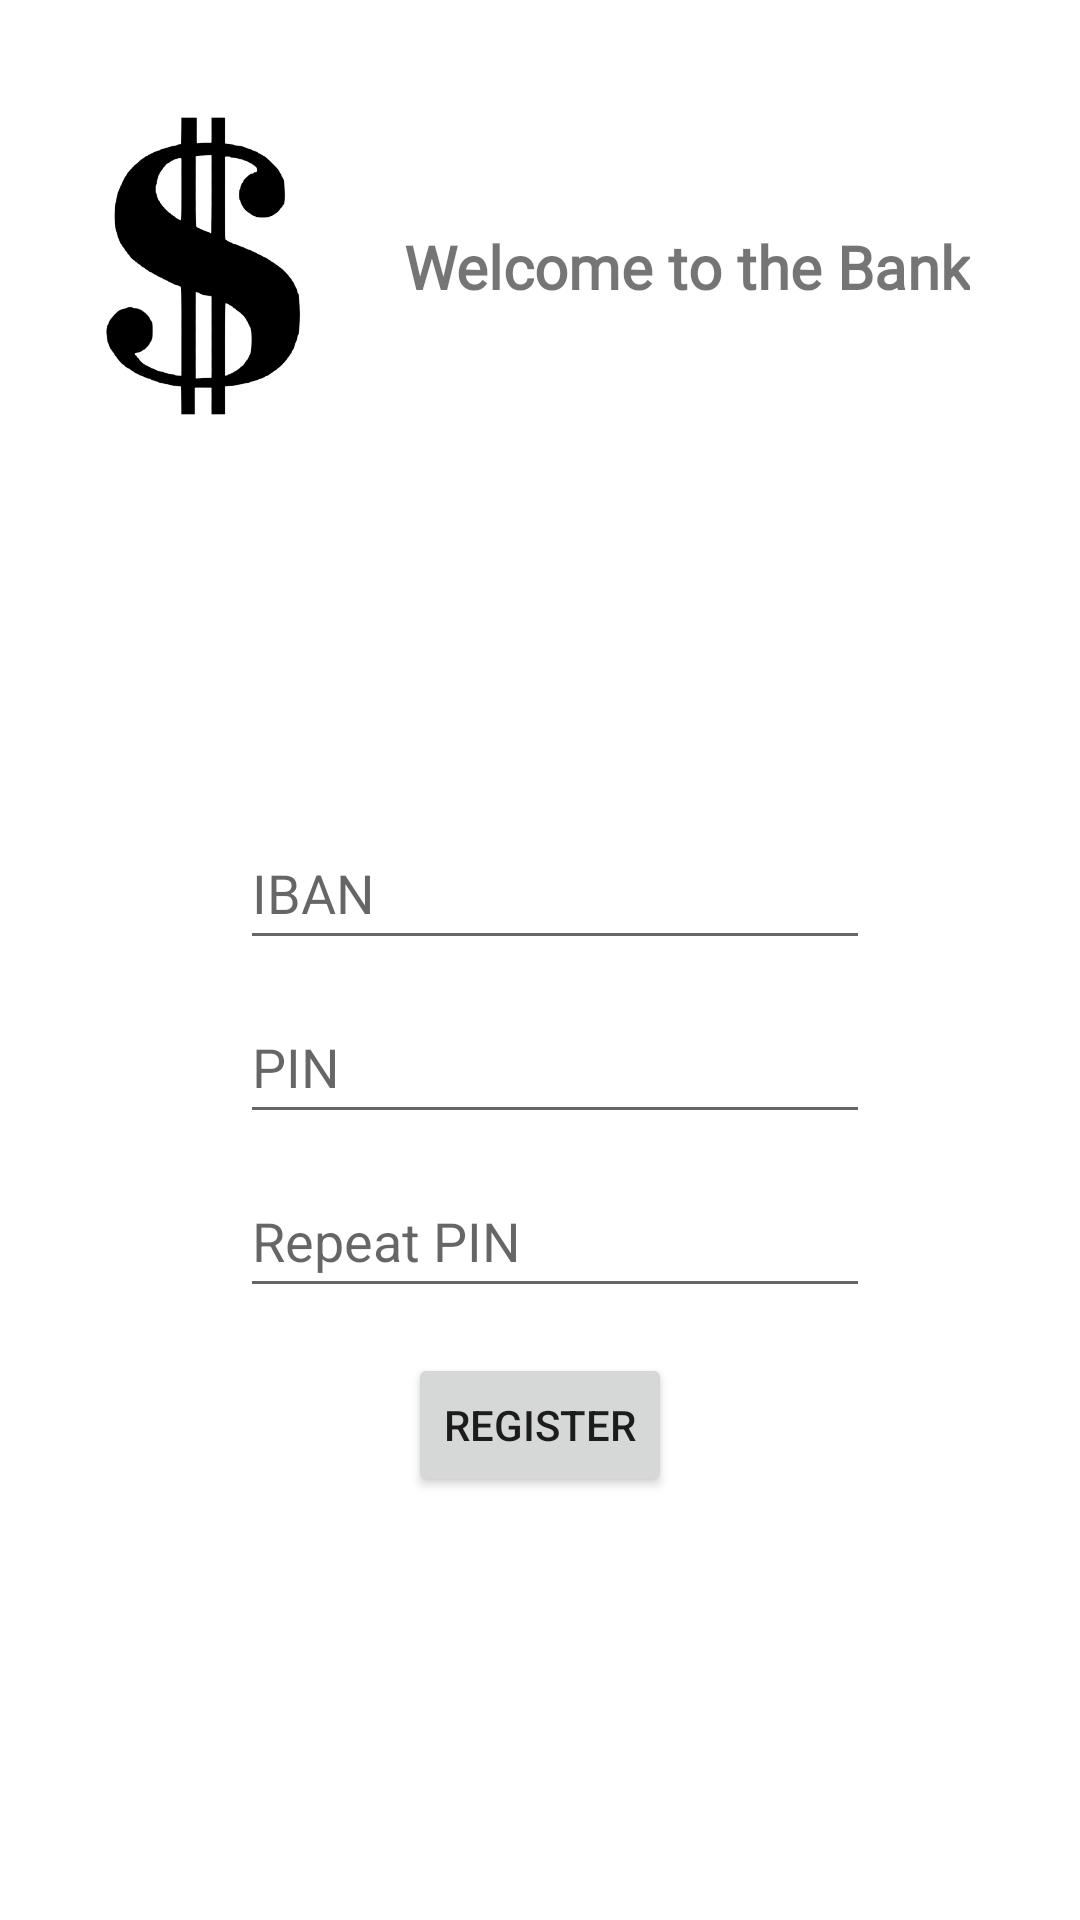

Named icons in this screenshot (1080 × 1920) and their bounding boxes, (x1, y1, x2, y2):
dolar sign intro: (106, 117, 300, 415)
